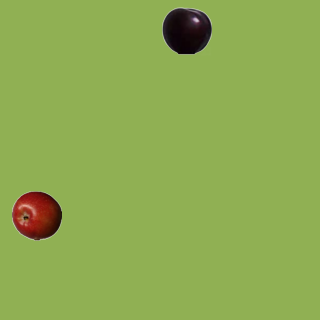Apple Braeburn: (11, 190, 61, 240)
Cherry Wax Black: (161, 5, 211, 55)
